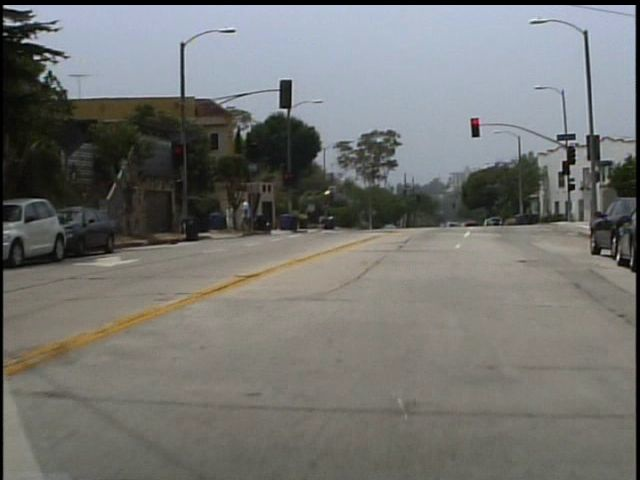person: (245, 197, 260, 238), (231, 203, 240, 235)
